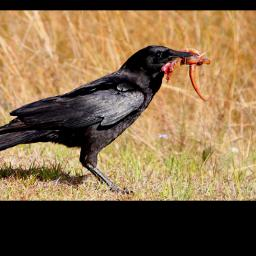Crow: (0, 41, 223, 194)
